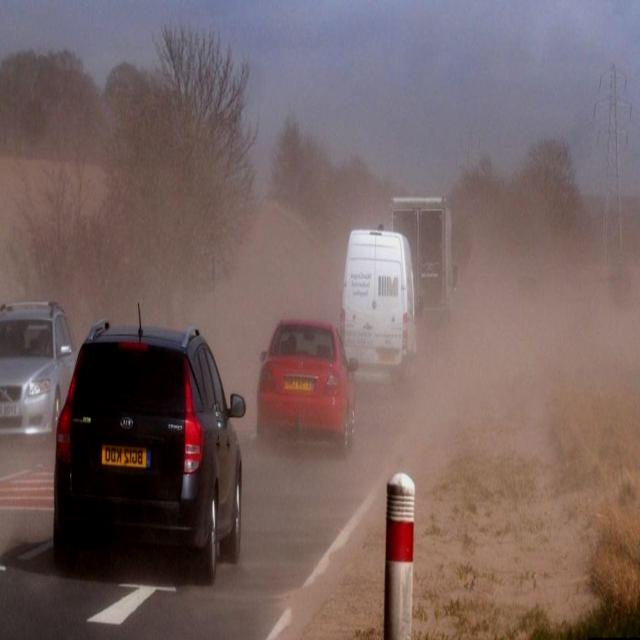Car: (51, 298, 244, 584), (255, 316, 361, 456), (0, 296, 79, 452)
Truck: (389, 194, 458, 349)
Van: (342, 222, 423, 397)
